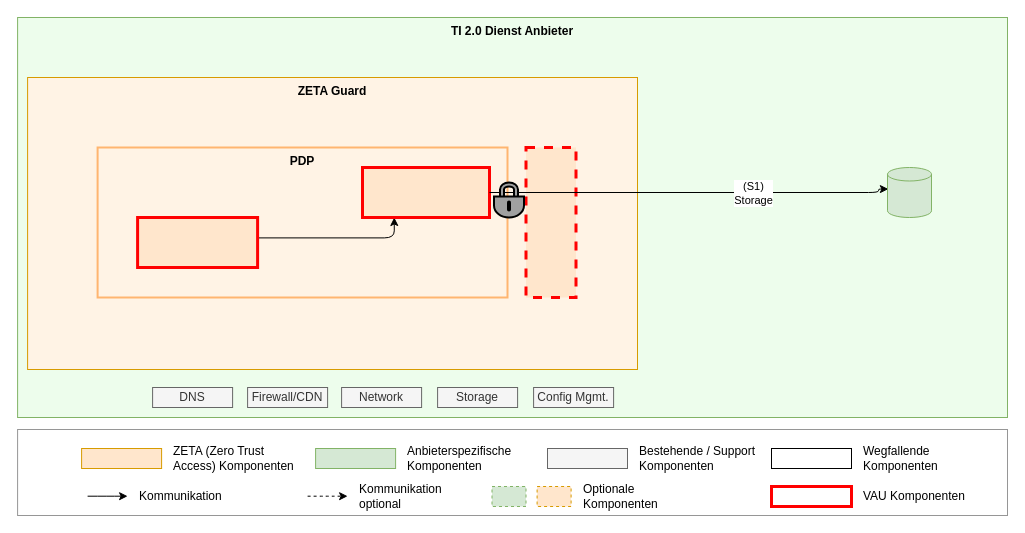
The diagram is 1025 pixels wide and 533 high, and some of its shapes have lost their labels. The box of each missing label's shape, as (x1, y1, x2, y2) in pixels:
Authorization Server: (136, 216, 259, 268)
Backend Ingress und Egress: (524, 146, 577, 298)
Legende: (17, 428, 1008, 516)
Postgres (PDP User/Client/Session): (360, 166, 490, 218)
